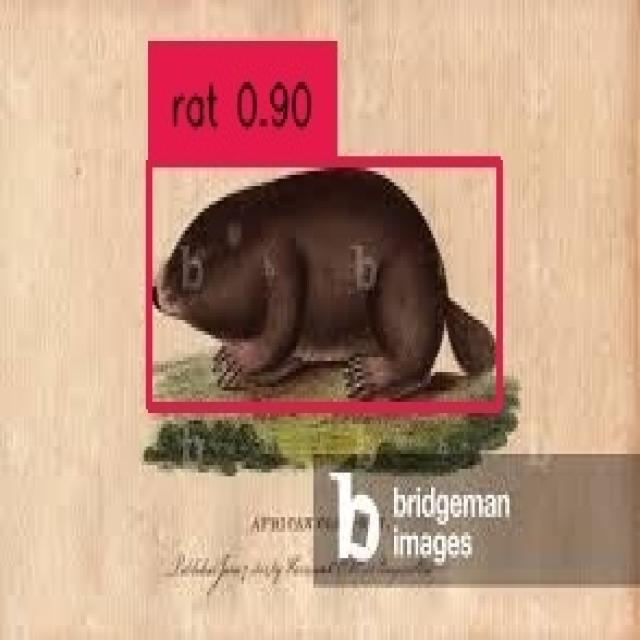rat: (146, 156, 496, 402)
